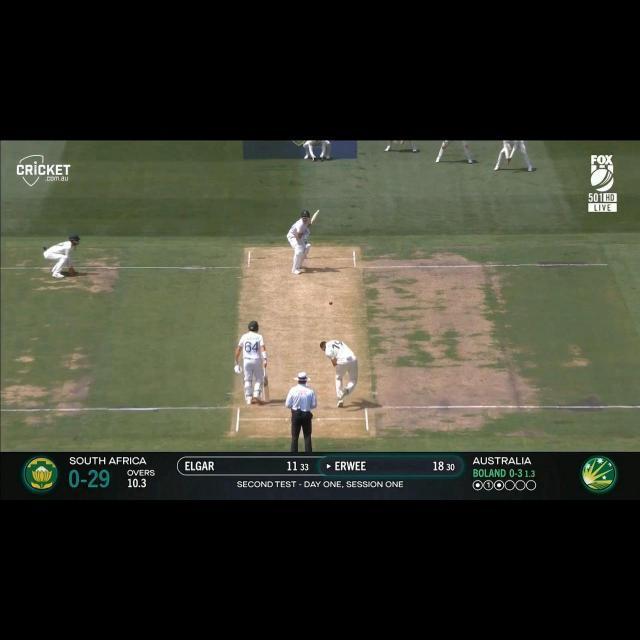bat: (262, 376, 272, 403), (311, 209, 319, 224)
toe: (263, 397, 272, 404), (316, 209, 319, 215)
